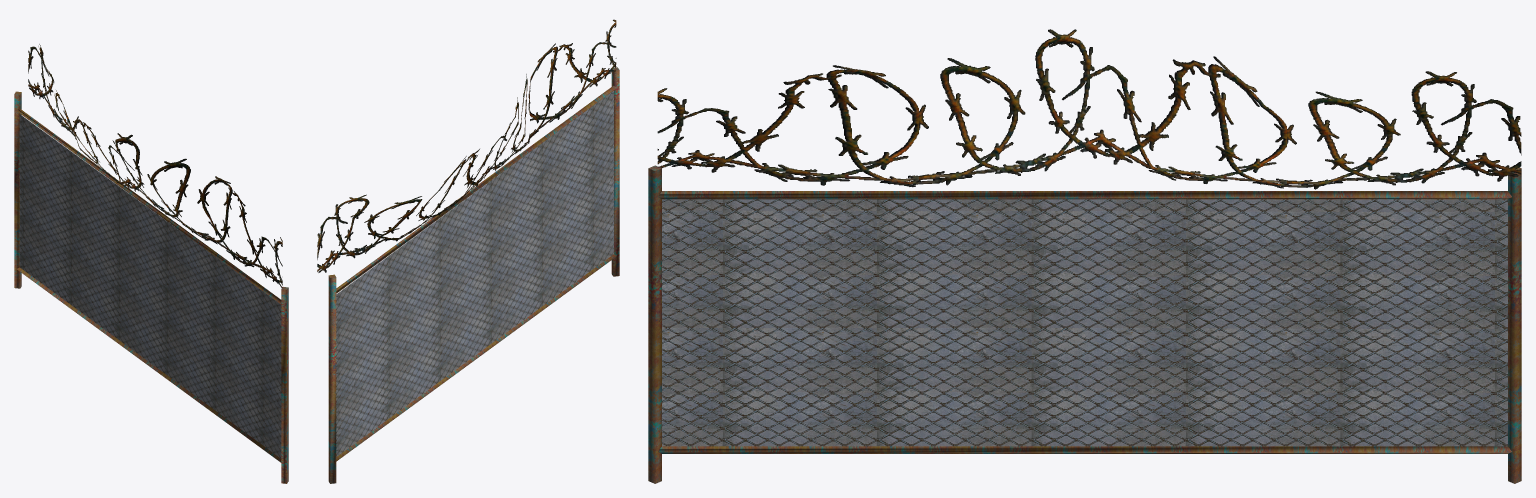
File: Prop_Tsw02.glb
3 renders of one model, left to right at view 1: azimuth 30°, elevation 25°; view 2: azimuth 150°, elevation 25°; view 3: azimuth 270°, elevation 25°, orthographic. The views are drawn at different scales.
Parts seen in each view (by area): view 1: xiutz_tsw_02_0; view 2: xiutz_tsw_02_0; view 3: xiutz_tsw_02_0.
Boxes of the visible parts, x1,y1,x2,y2 form: xiutz_tsw_02_0: (14,44,288,483); xiutz_tsw_02_0: (317,19,619,483); xiutz_tsw_02_0: (648,29,1521,483).
Bounding box in the file's own units: 1.6 × 7.28 × 13.3.
Materials: 2 (2 with a texture image).
